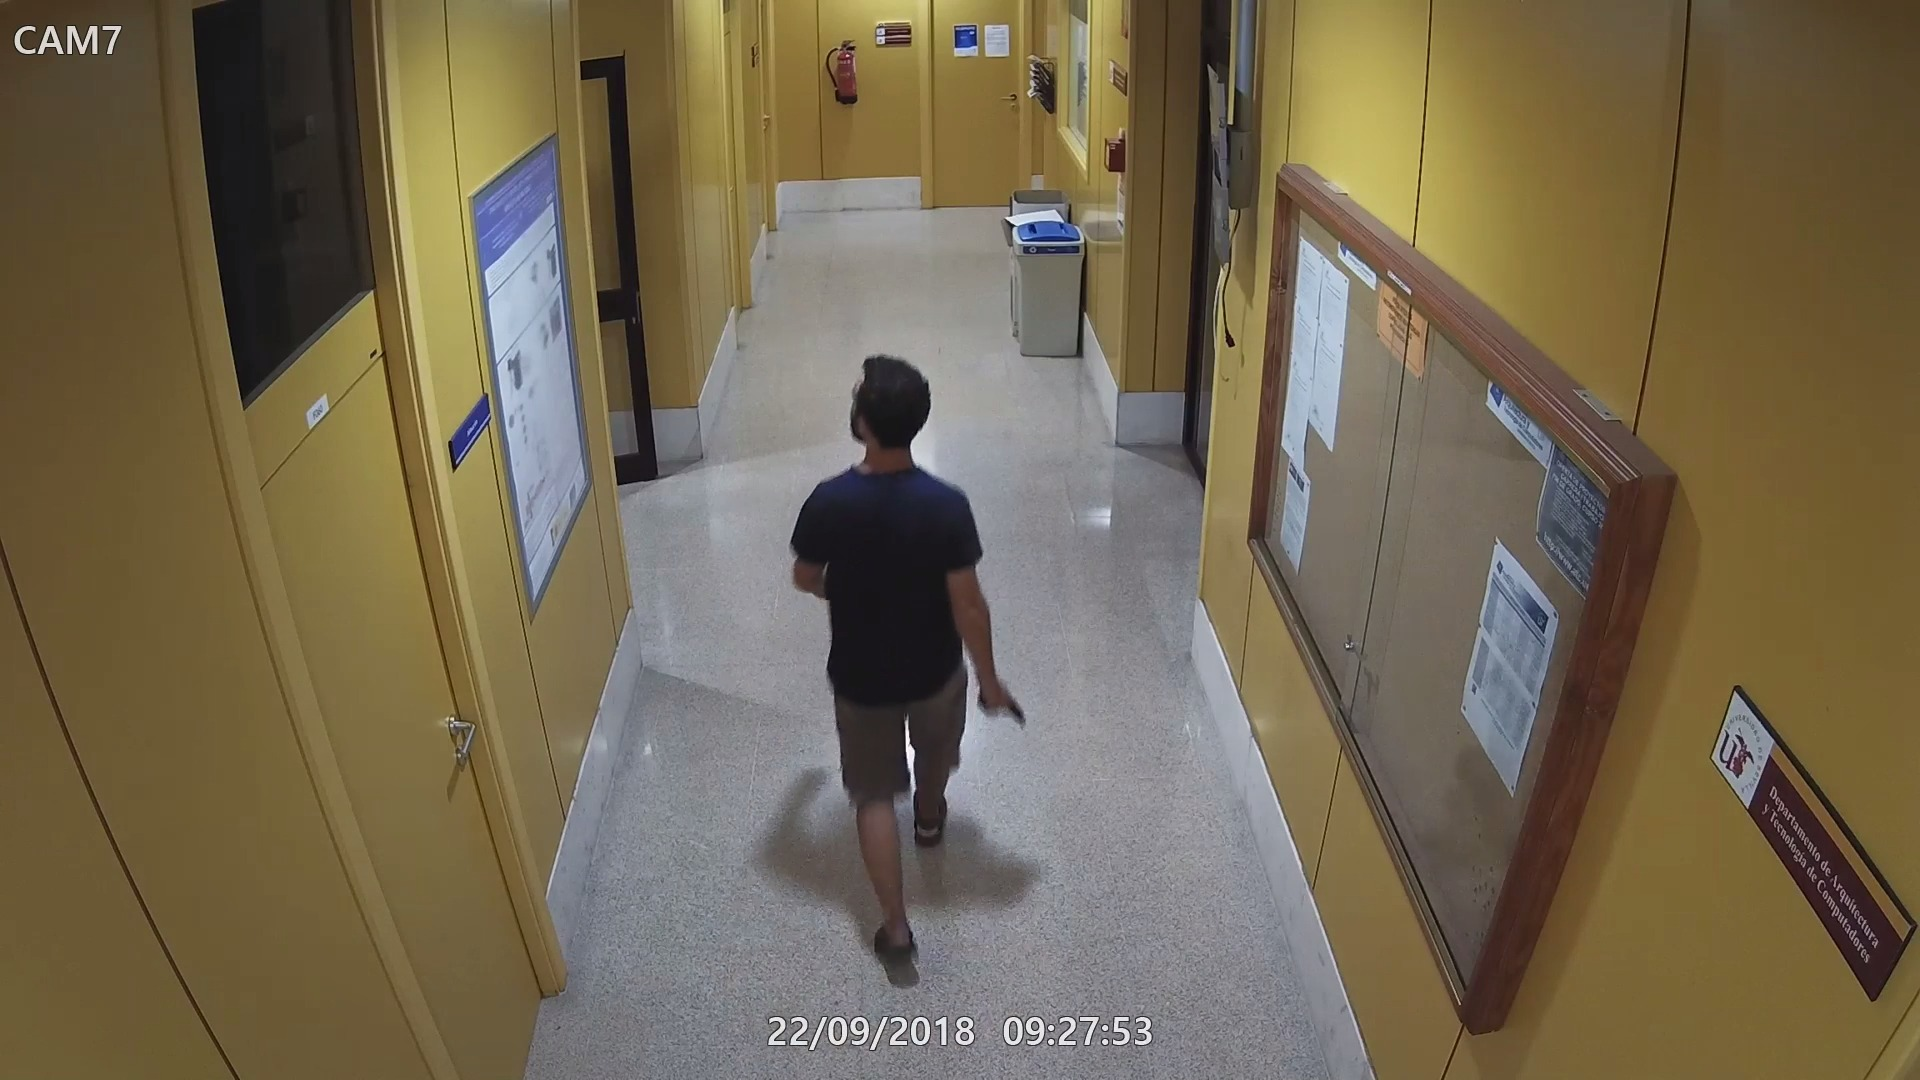Handgun: (975, 676, 1029, 727)
